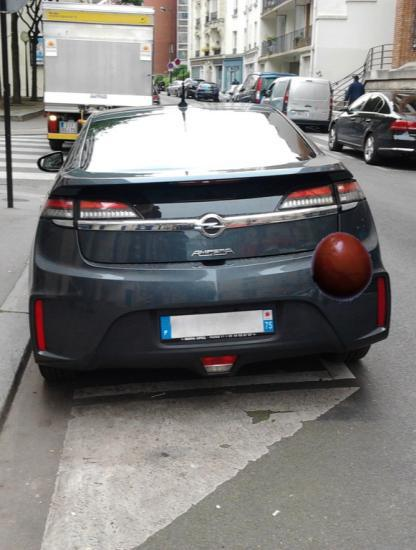Tamarillo: (304, 231, 380, 307)
